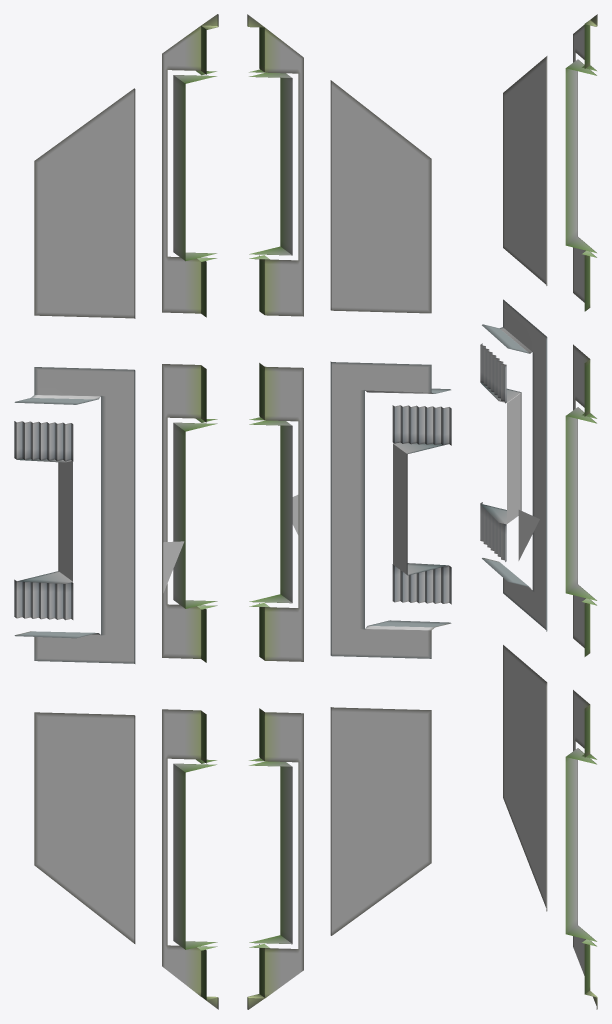
Rendered from SM_000528_merge_concrete03_a.fbx.
3 views of the same model, side by side, from view 1: azimuth 30°, elevation 25°; view 2: azimuth 210°, elevation 25°; view 3: azimuth 330°, elevation 25° (orthographic).
Parts seen in each view (by area): view 1: SM_000528.001; view 2: SM_000528.001; view 3: SM_000528.001.
Part boxes in pixels (x1,y1,x2,y2): SM_000528.001: [14, 14, 218, 1009]; SM_000528.001: [247, 14, 451, 1009]; SM_000528.001: [480, 14, 597, 1009].
Bounding box in the file's own units: 17.85 × 107 × 10.98.
